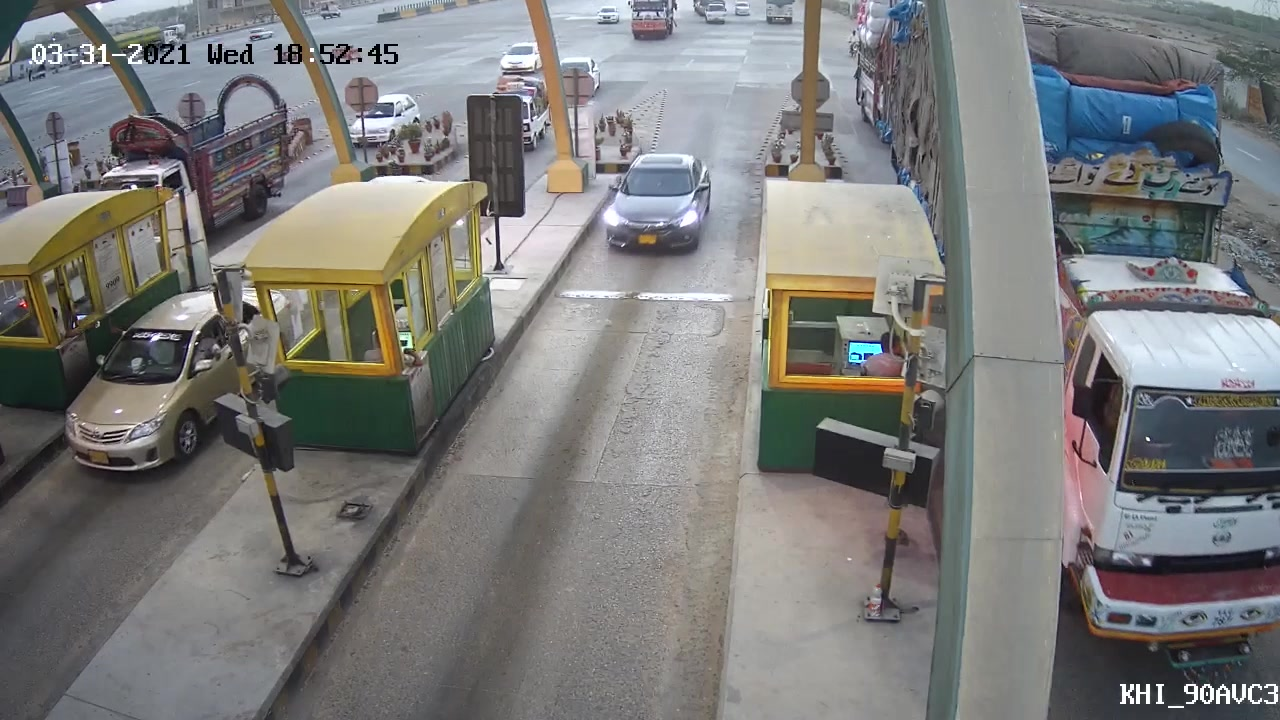F1: (597, 143, 717, 263)
